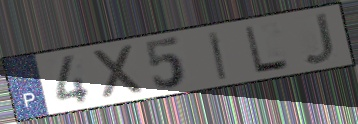4: (53, 51, 92, 106)
5: (143, 34, 192, 92)
I: (205, 29, 229, 83)
J: (301, 11, 338, 67)
L: (242, 24, 293, 75)
X: (90, 42, 149, 102)
